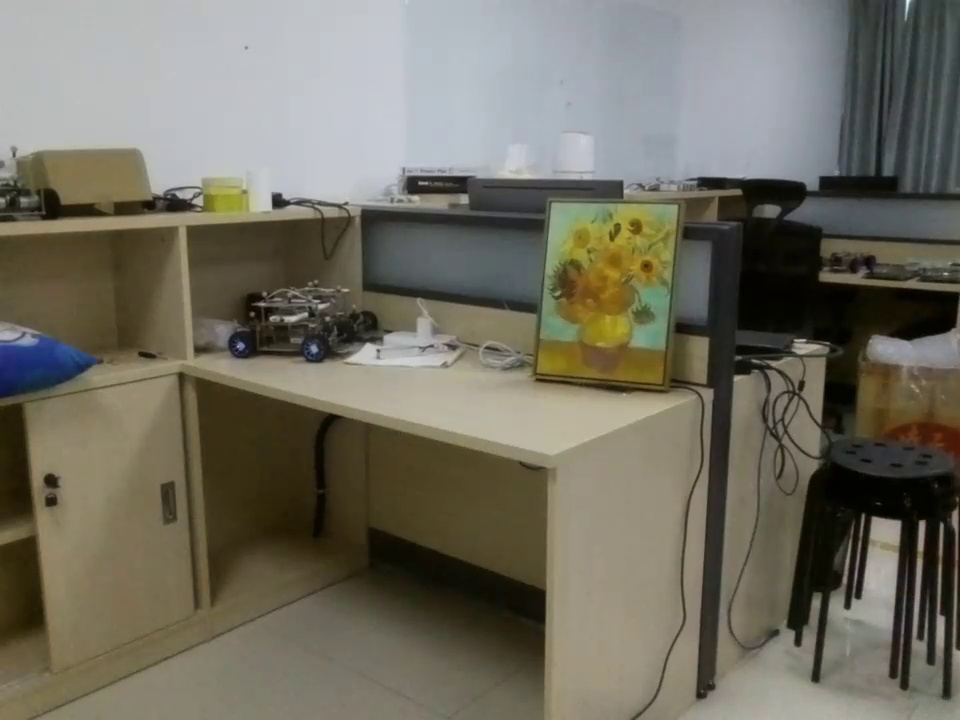painting: (534, 203, 688, 391)
